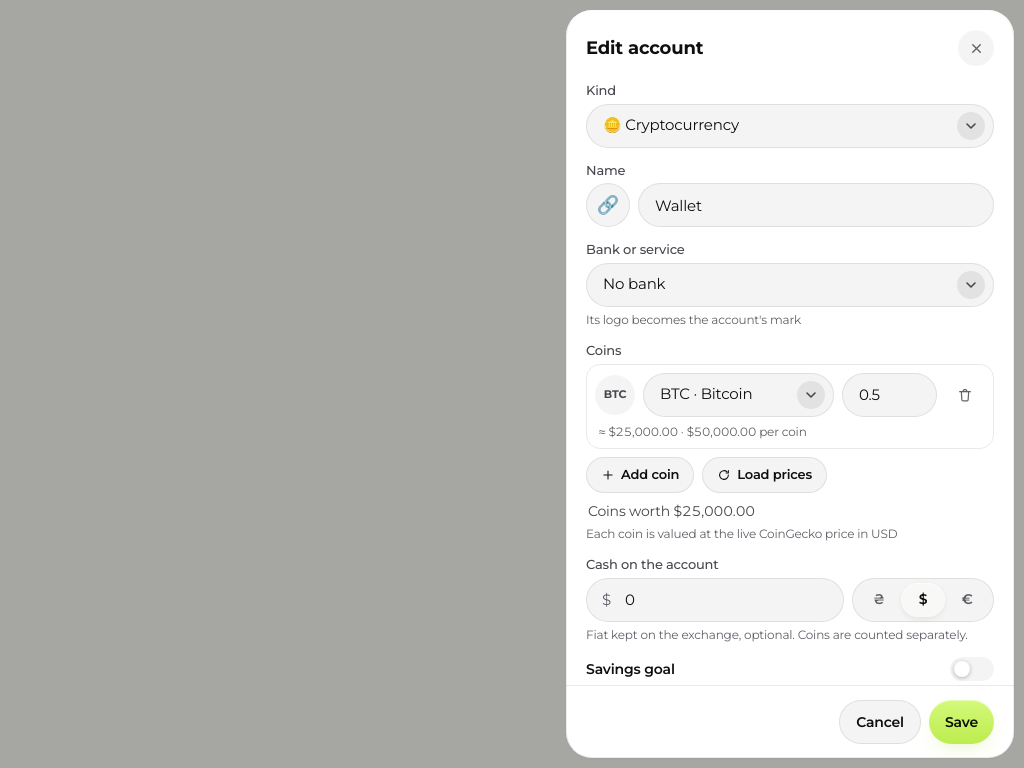
Scenario: AccountSheet › loads coin prices on request and names a failure
Click the button "Load prices" at x=765, y=475, box [702,457,827,493]
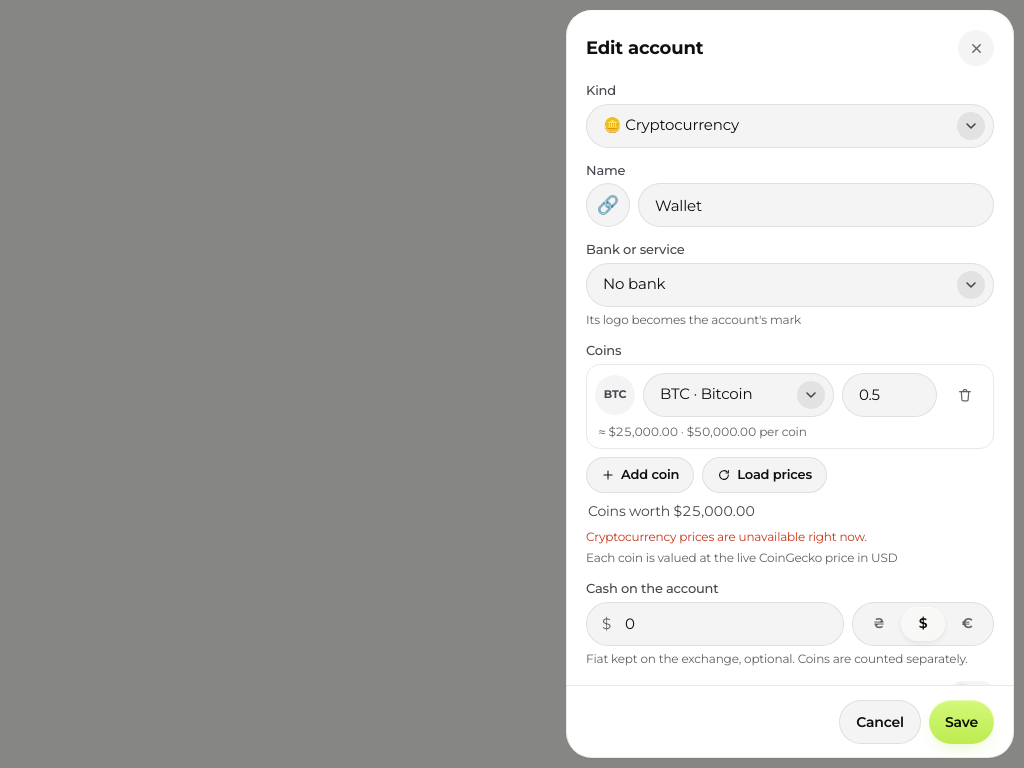
Expected: the text "Cryptocurrency prices are unavailable right now." is shown, [586,529,867,544]
Click the button "Load prices" at x=765, y=475, box [702,457,827,493]
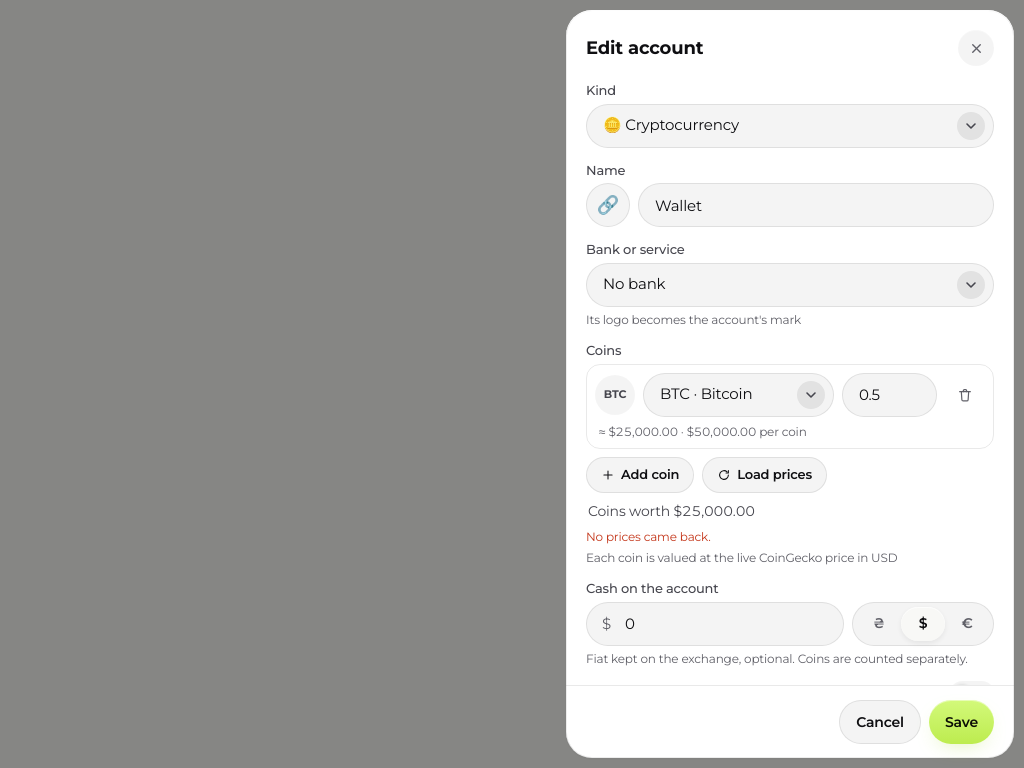
Expected: the text "No prices came back." is shown, [586,529,710,544]
Click the button "Load prices" at x=765, y=475, box [702,457,827,493]
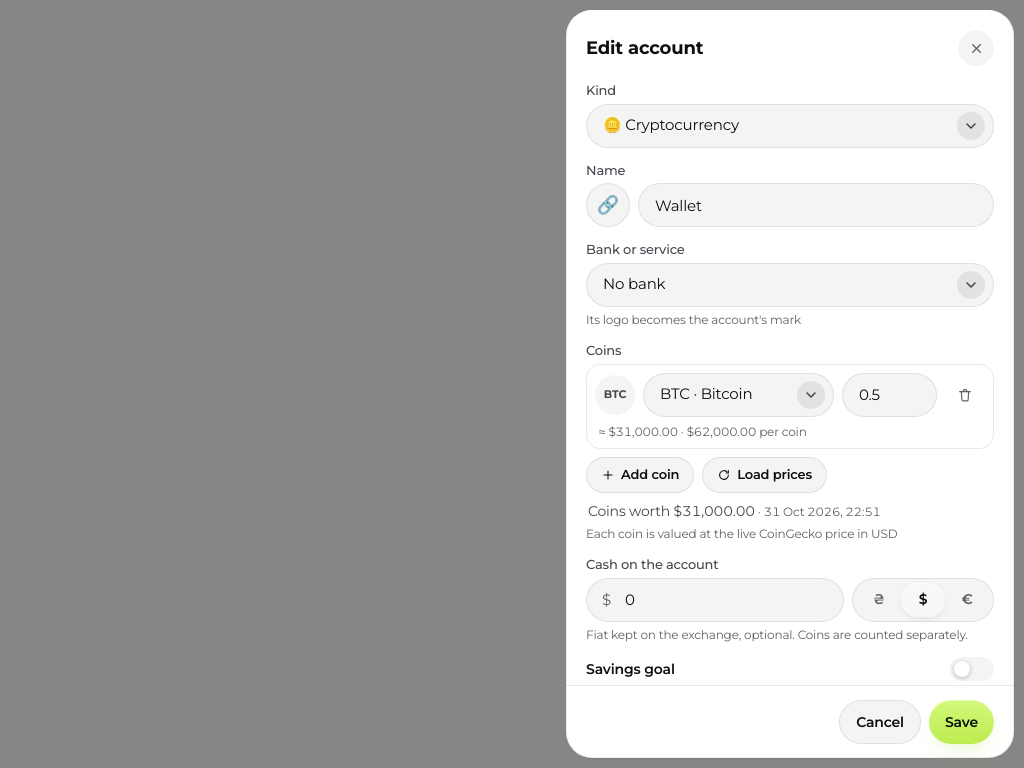
Expected: the text "≈ $31,000.00 · $62,000.00 per coin" is shown, [599,424,807,439]
Expected: the text "No prices came back." is gone
